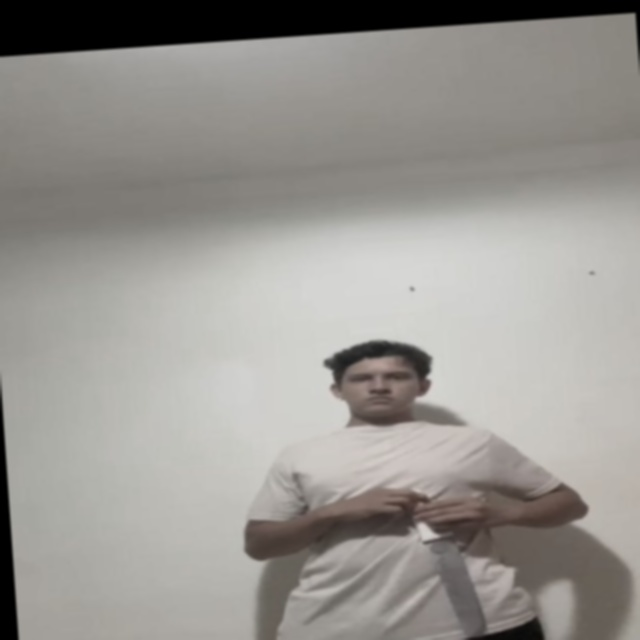Sharp-Object: (429, 535, 486, 638)
